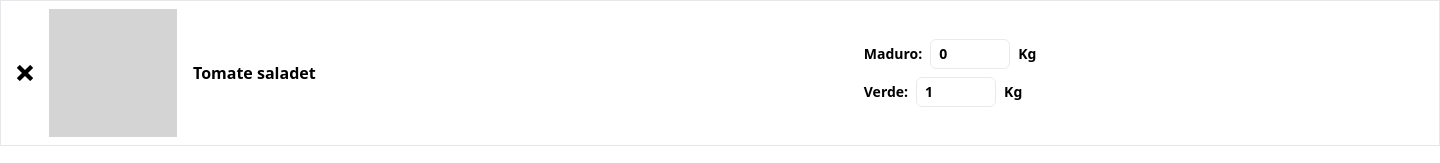
Test: CartItem: edición de cantidades por peso › m-kg: impide dejar maduro y verde en 0 (el checkout lo rechazaría)
Replace the text in the number field named "Verde en kilogramos" with "0". click: (956, 92)
box: [916,77,996,107]
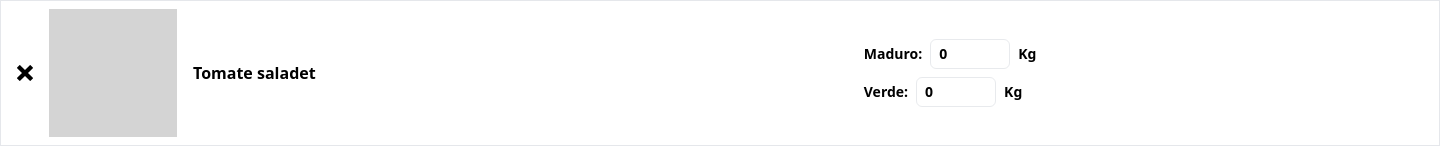
Leave the number field named "Verde en kilogramos", box [916,77,996,107]
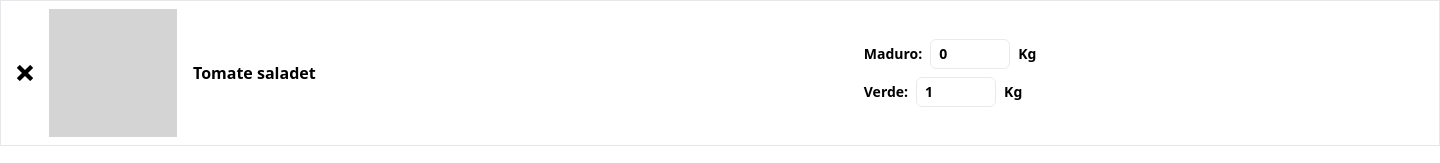
Now the number field named "Verde en kilogramos" holds "1", box [916,77,996,107]
